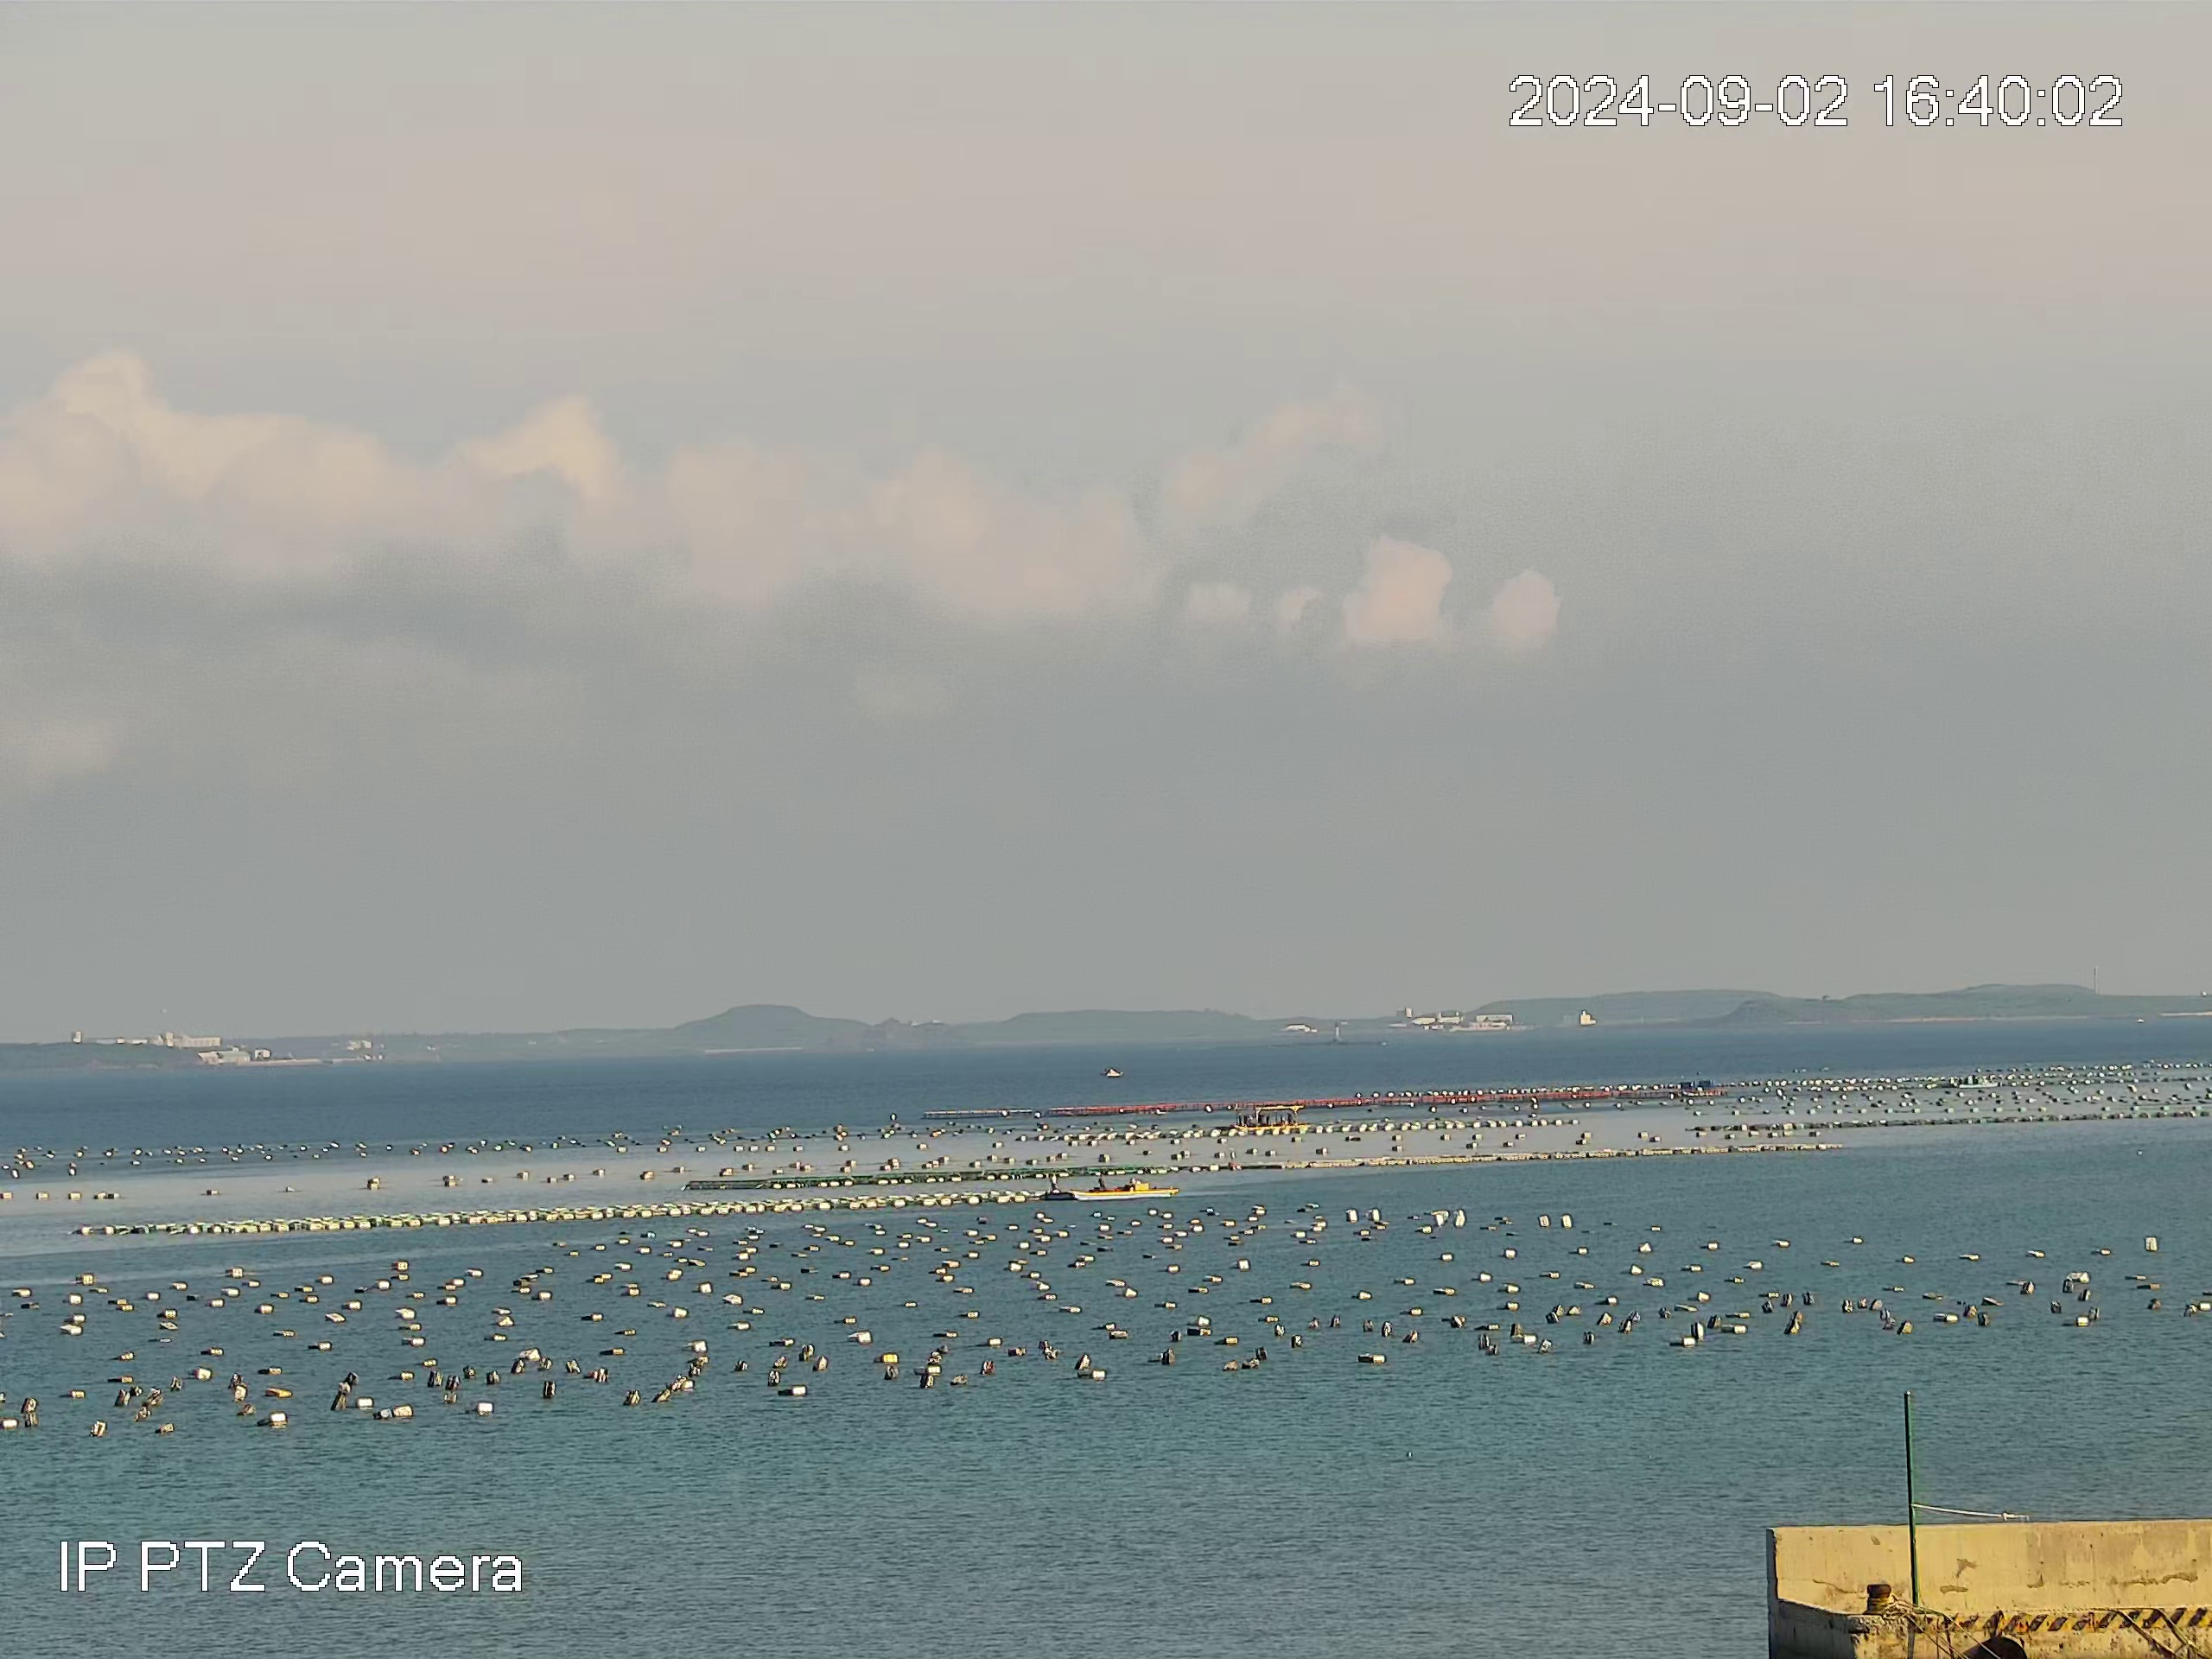boat: (1039, 1172, 1179, 1202), (1229, 1103, 1306, 1130), (1958, 1073, 1999, 1090)
